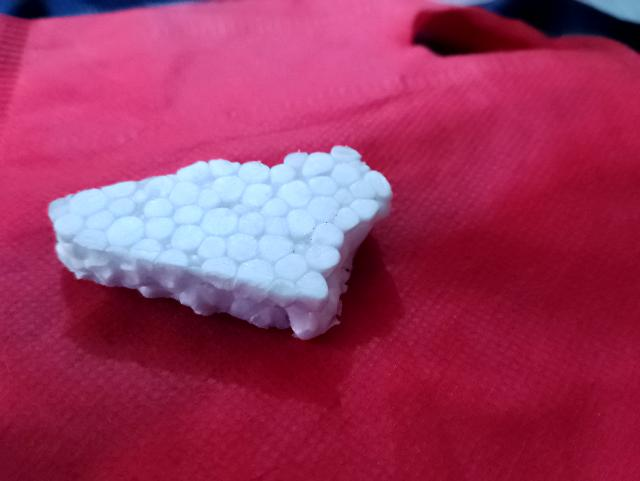cocksheet: (59, 139, 386, 327)
